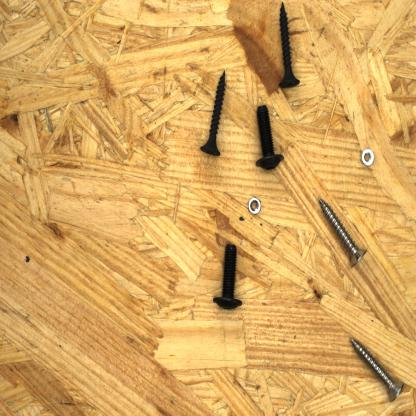screw: (315, 191, 371, 272), (348, 333, 408, 406), (198, 66, 231, 160), (251, 100, 289, 174), (272, 0, 303, 90), (209, 238, 244, 313)
